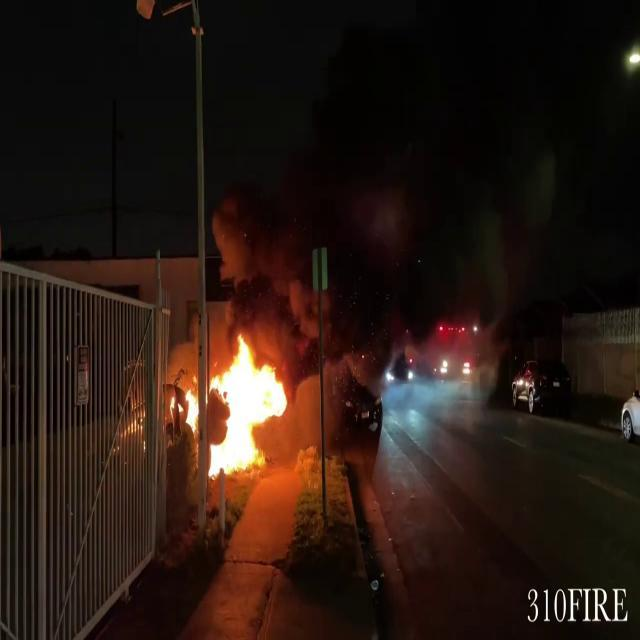Fire: (170, 330, 296, 480)
